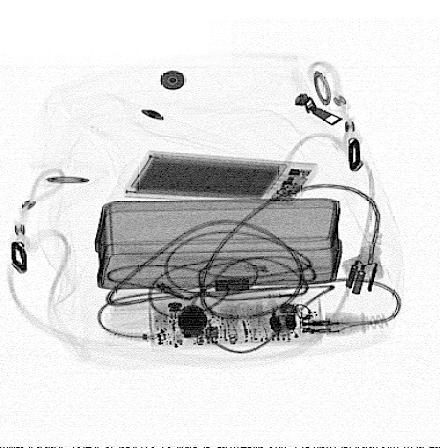Powerbank: (121, 151, 320, 206)
